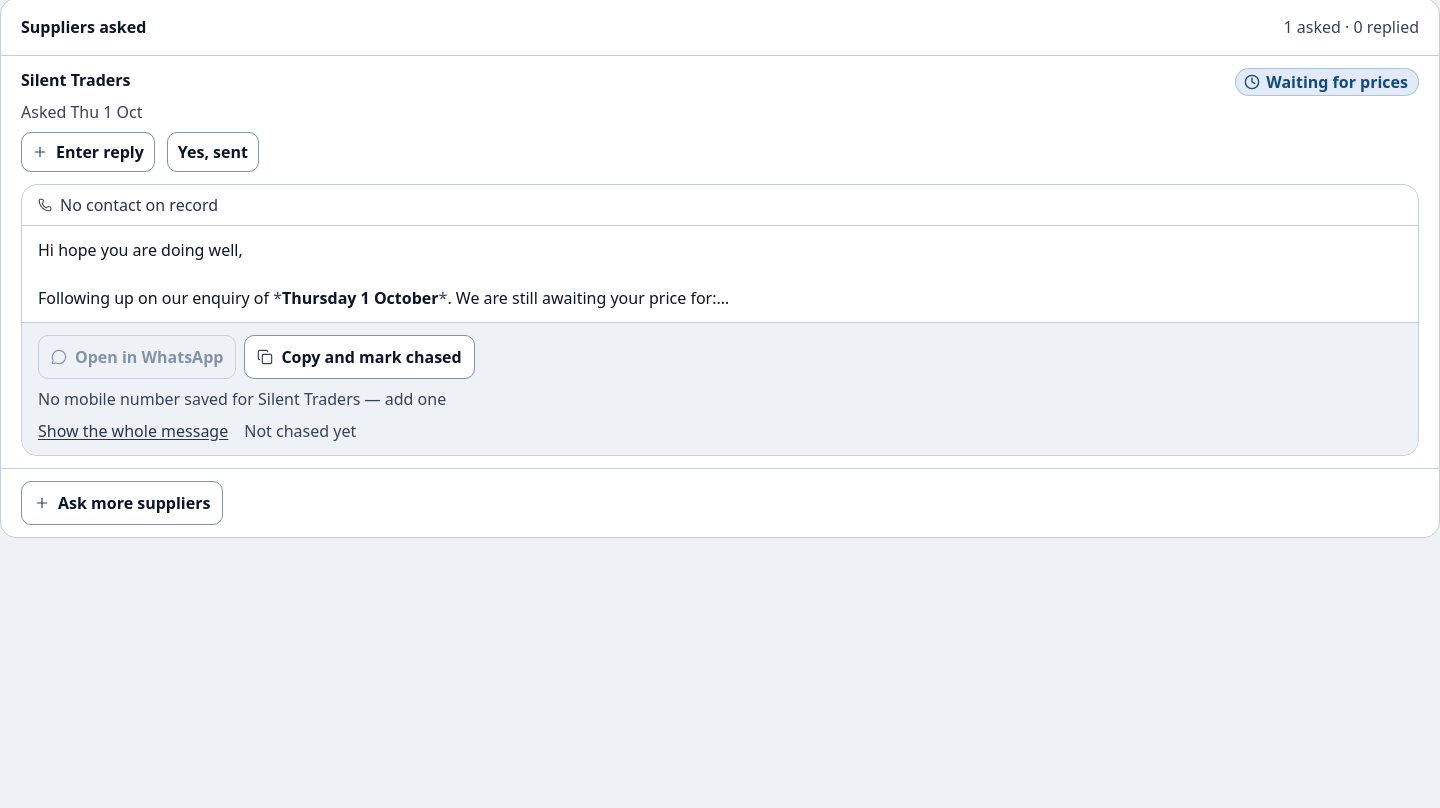
Test: SuppliersAsked chase › shows a short preview; the whole message, with its items and reply-by date, opens on request; Email is one link away
The image size is (1440, 808).
Expected: the element "Items still without a price from this supplier" is not shown
Click the button "Show the whole message": point(133, 431) [38,419,228,443]
(page scrolled)
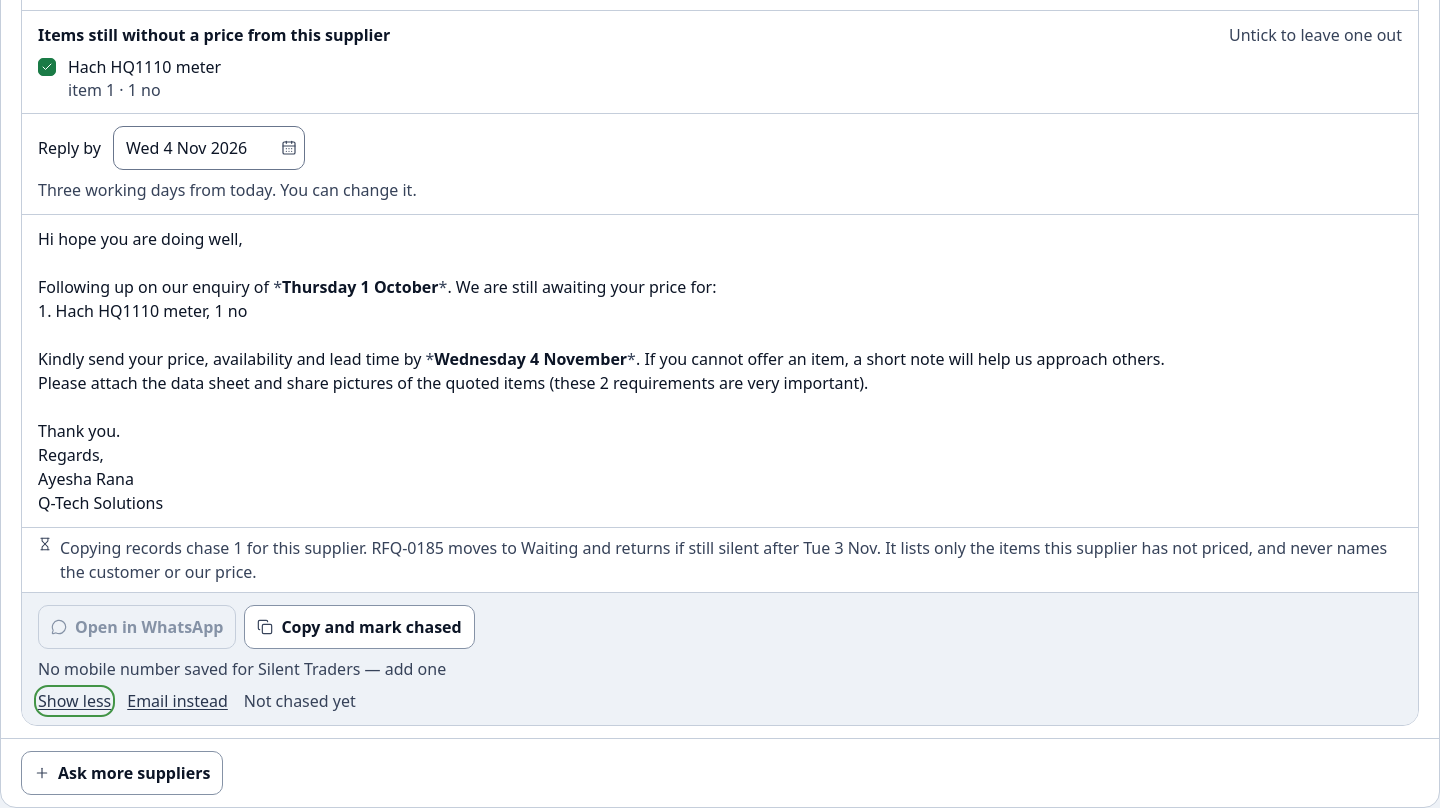
Expected: the element with test id "chase-text" does not show "Subject", [38,228,1165,514]
Now the element "Items still without a price from this supplier" is shown, box [22,11,1418,114]
Click the button "Email instead": point(178, 701) [127,689,228,713]
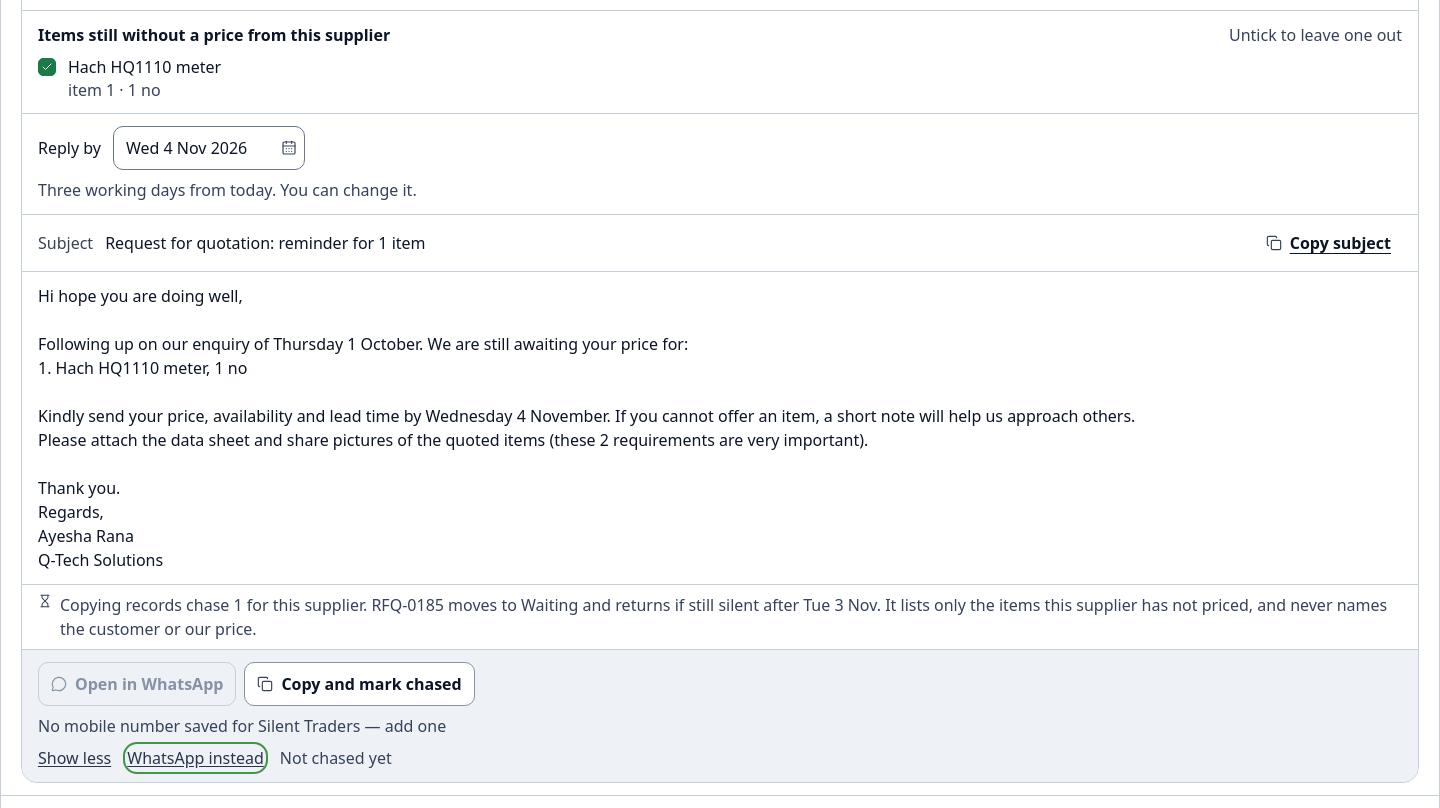
Now the button "WhatsApp instead" is shown, box [127,746,264,770]
Now the button "Copy subject" is shown, box [1255,223,1402,263]
